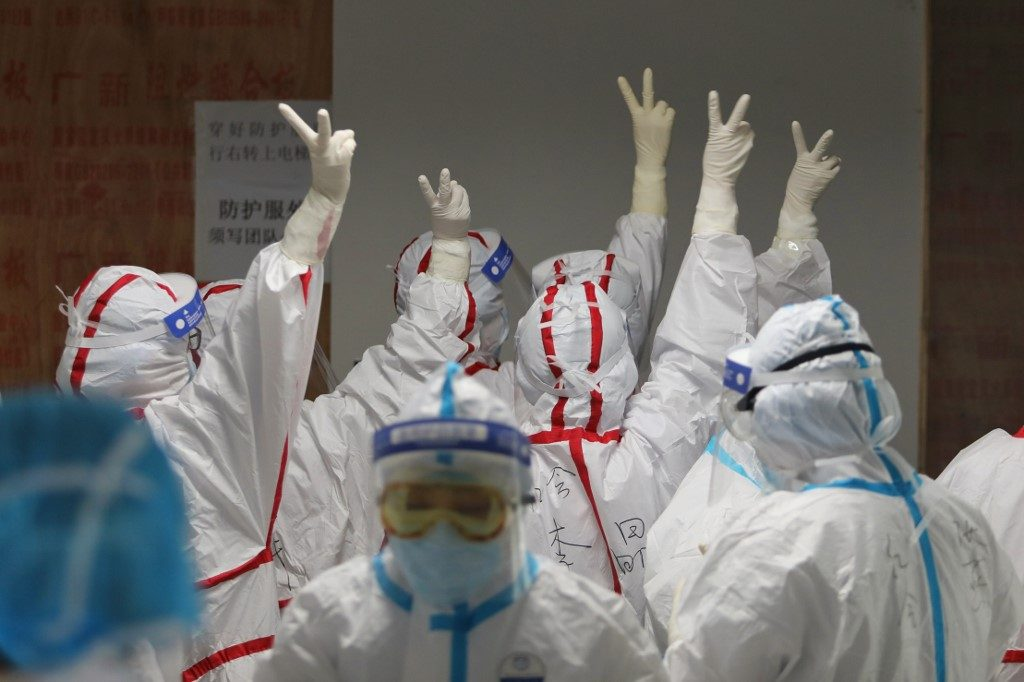Coverall: (698, 312, 984, 679), (58, 261, 284, 642), (505, 287, 685, 595)
Gloves: (273, 97, 359, 259), (609, 64, 679, 186), (411, 163, 479, 281), (778, 110, 845, 227), (694, 79, 758, 195)
Goggles: (374, 472, 521, 545)
